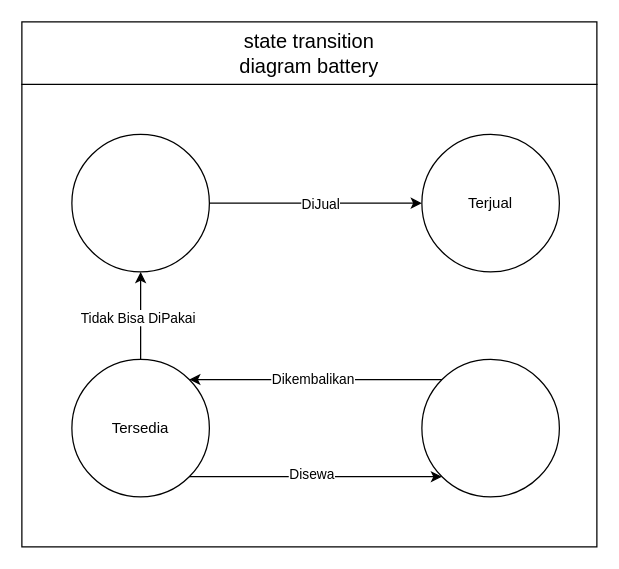
The diagram is 619 pixels wide and 569 high, and some of its shapes have lost their labels. The shapes that lost their labels are listed below. From the top down, each one's centre as x and y in pixels, then its label:
At (x=140, y=202): "Rusak".
At (x=490, y=427): "DiPinjam".
